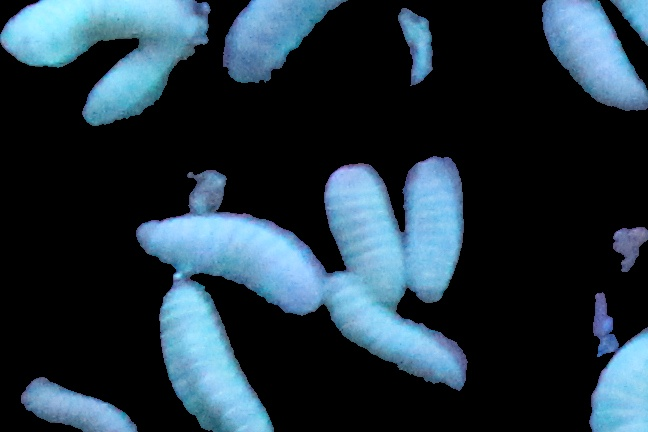larvae: (150, 278, 280, 432), (142, 210, 326, 311), (325, 275, 462, 400), (543, 1, 638, 119), (323, 167, 405, 298), (221, 1, 347, 85), (83, 42, 196, 122), (1, 1, 187, 45), (405, 156, 464, 294), (21, 375, 133, 432)
